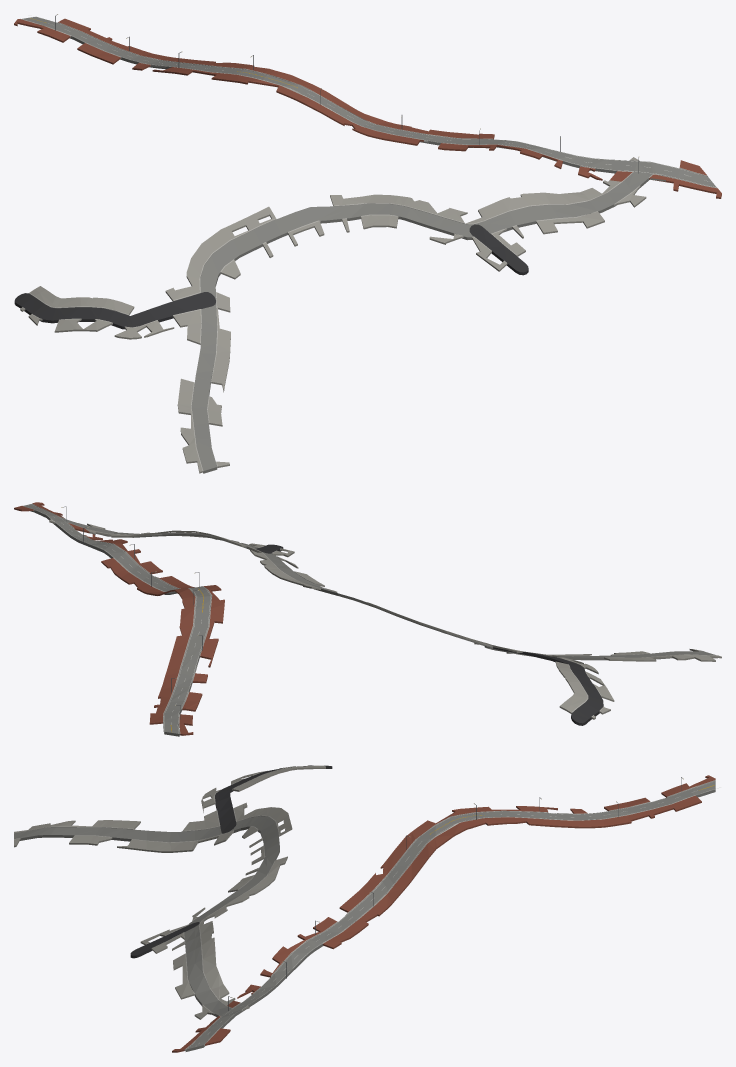
Rendered from 17-109465-59483.2ece6504.glb.
3 renders of one model, top to bottom at view 1: azimuth 30°, elevation 25°; view 2: azimuth 150°, elevation 25°; view 3: azimuth 270°, elevation 25°, orthographic. The views are drawn at different scales.
Size of the model in its own units: 294 by 76.91 by 294.
